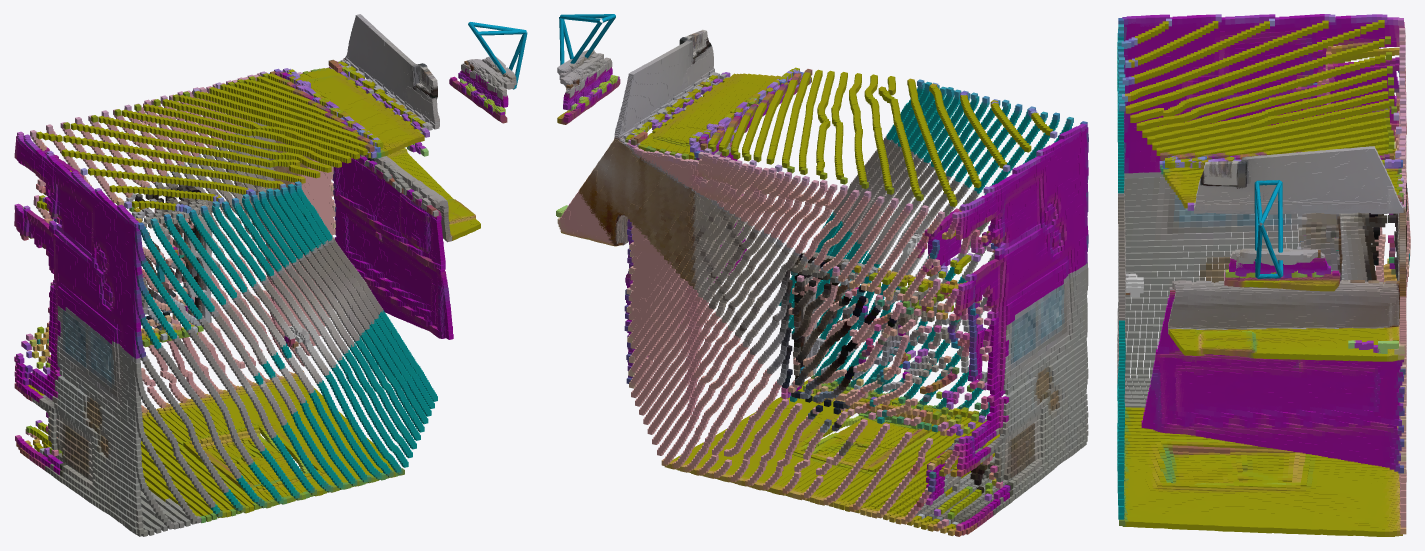
3 renders of one model, left to right at view 1: azimuth 30°, elevation 25°; view 2: azimuth 150°, elevation 25°; view 3: azimuth 270°, elevation 25°, orthographic. The views are drawn at different scales.
Bounding box in the file's own units: 5.1 × 4.02 × 2.49.
